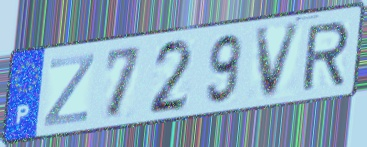2: (147, 37, 197, 115)
7: (103, 43, 142, 123)
9: (204, 30, 245, 106)
R: (299, 18, 352, 94)
V: (253, 19, 305, 103)
Z: (40, 51, 98, 130)
